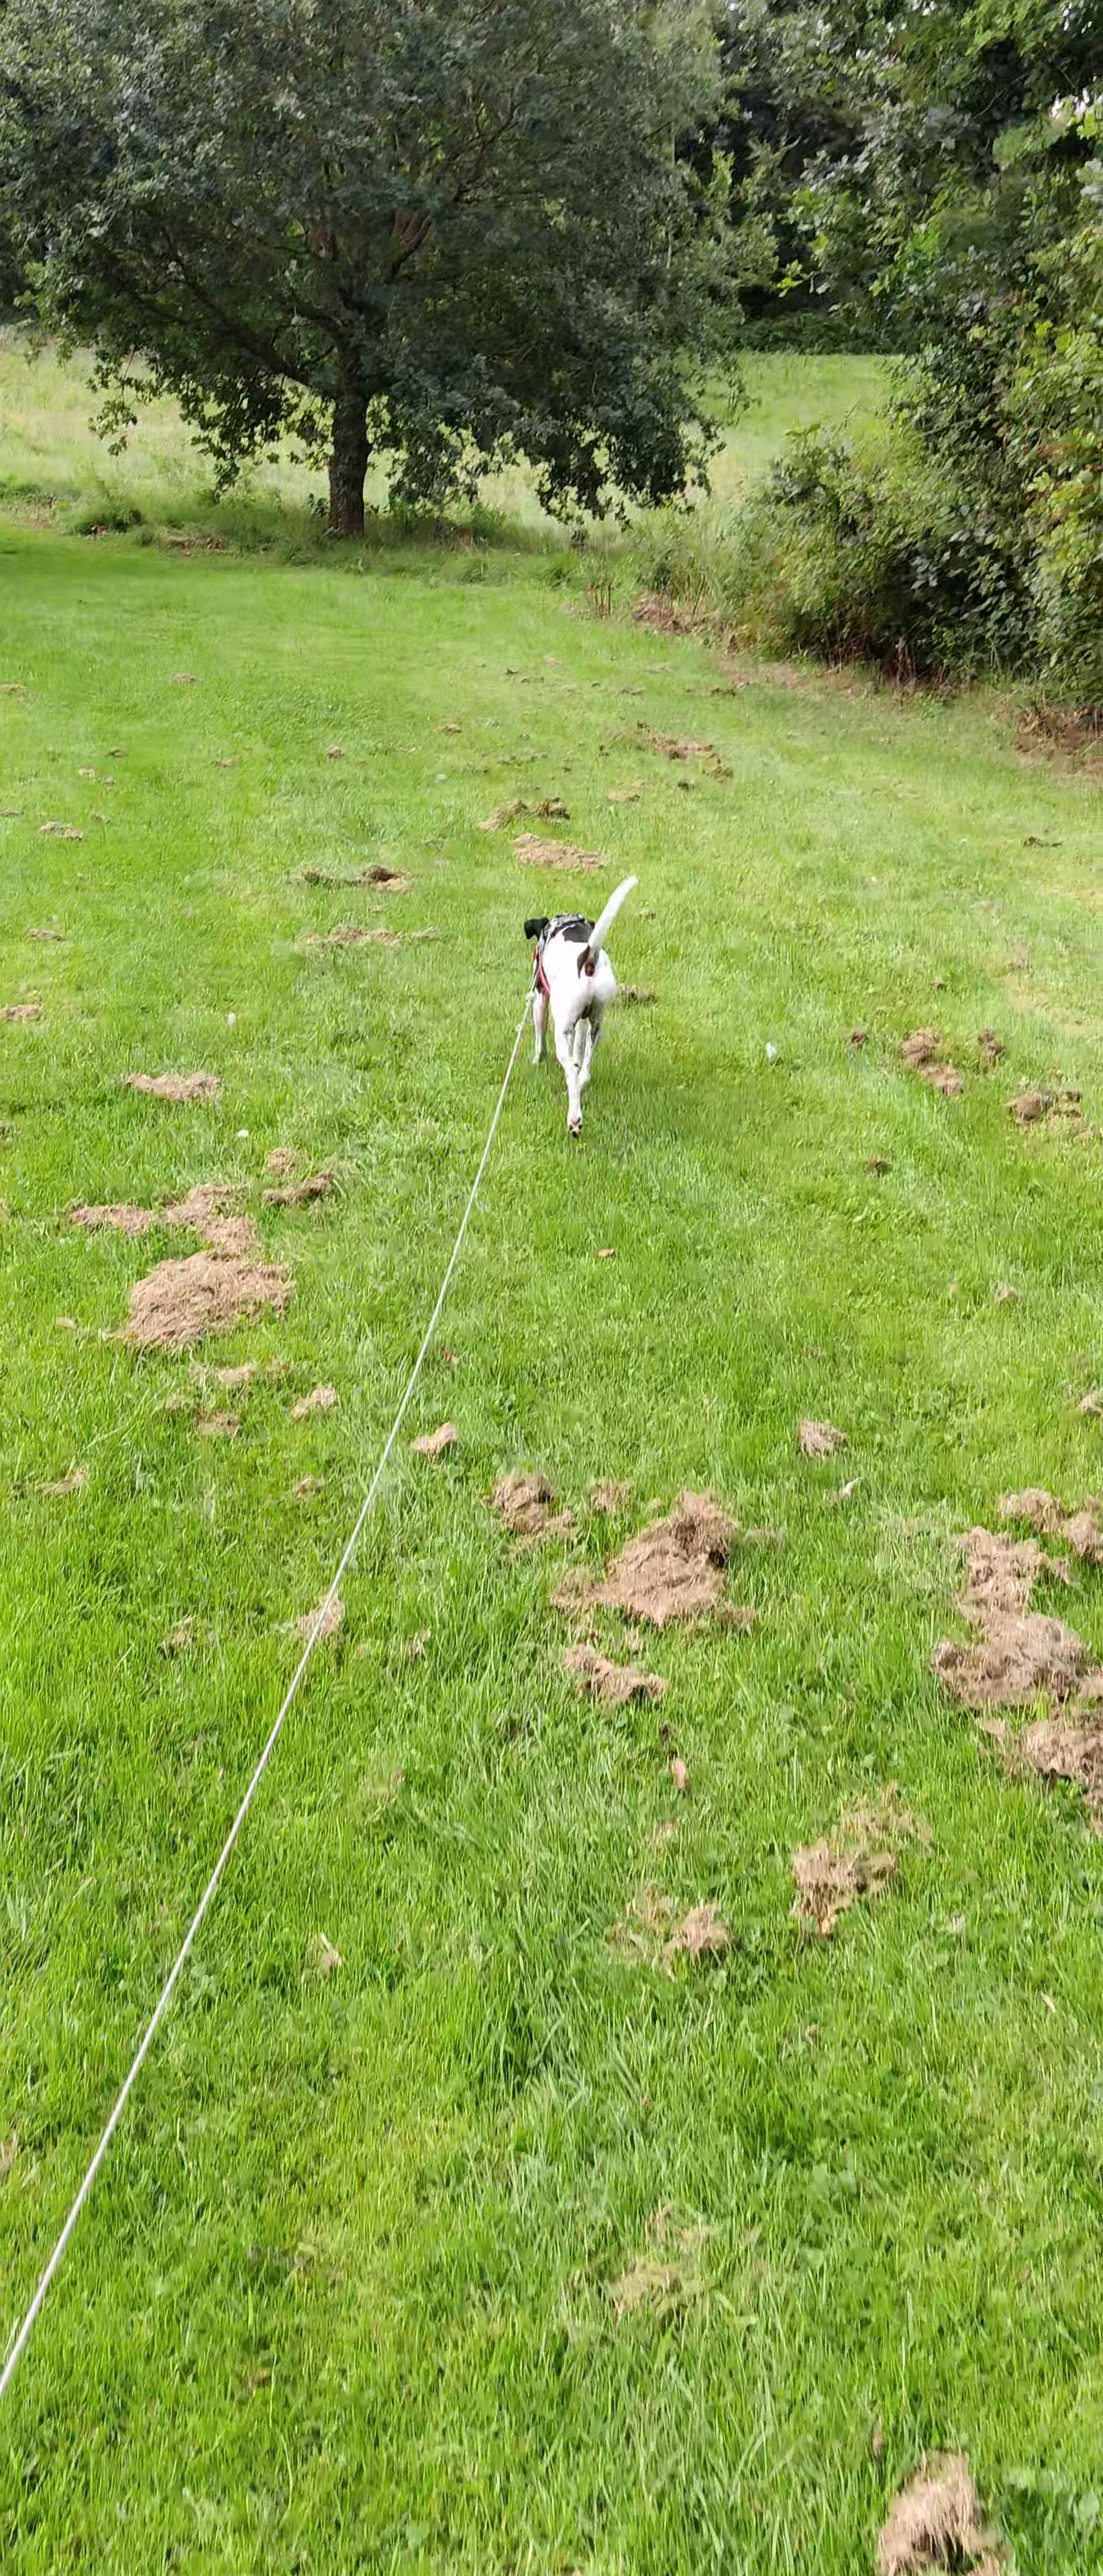Dog: (519, 871, 644, 1145)
